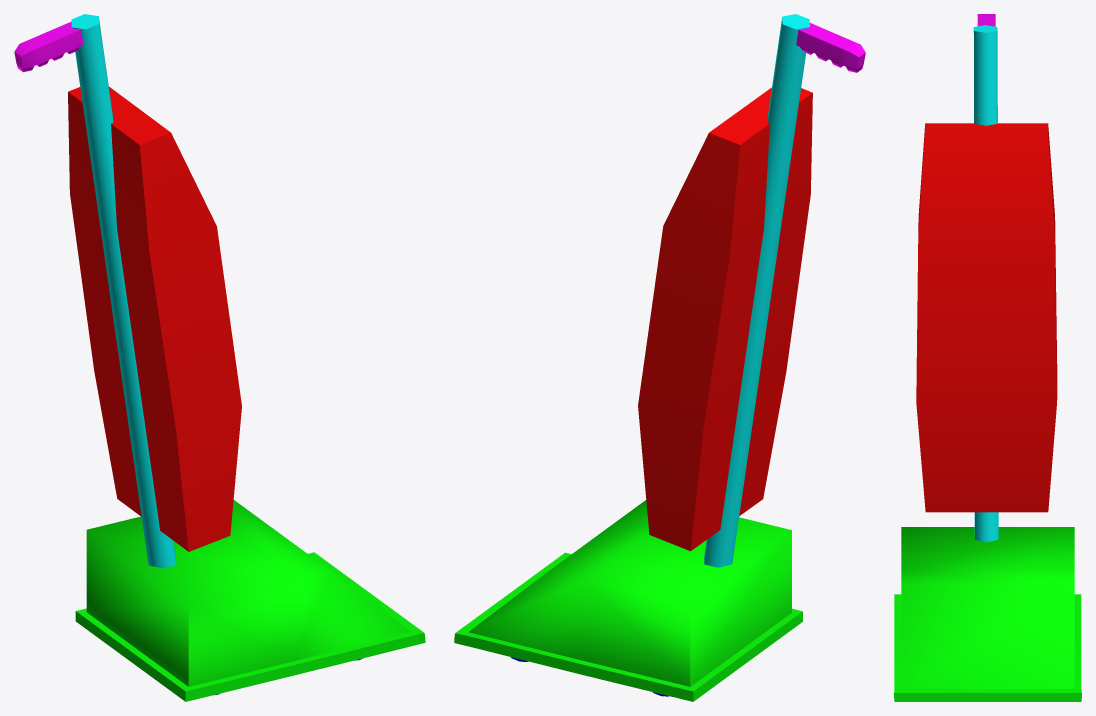
The model's file is Vacuum_Export.obj.
3 views of the same model, side by side, from view 1: azimuth 30°, elevation 25°; view 2: azimuth 150°, elevation 25°; view 3: azimuth 270°, elevation 25° (orthographic). The views are drawn at different scales.
Visible parts, largest first — view 1: pCylinder7; view 2: pCylinder7; view 3: pCylinder7.
Part boxes in pixels (<box>): pCylinder7: <box>14,14,425,701</box>; pCylinder7: <box>454,14,865,701</box>; pCylinder7: <box>894,14,1081,701</box>.
Size of the model in its own units: 6.66 by 11.93 by 3.6.
